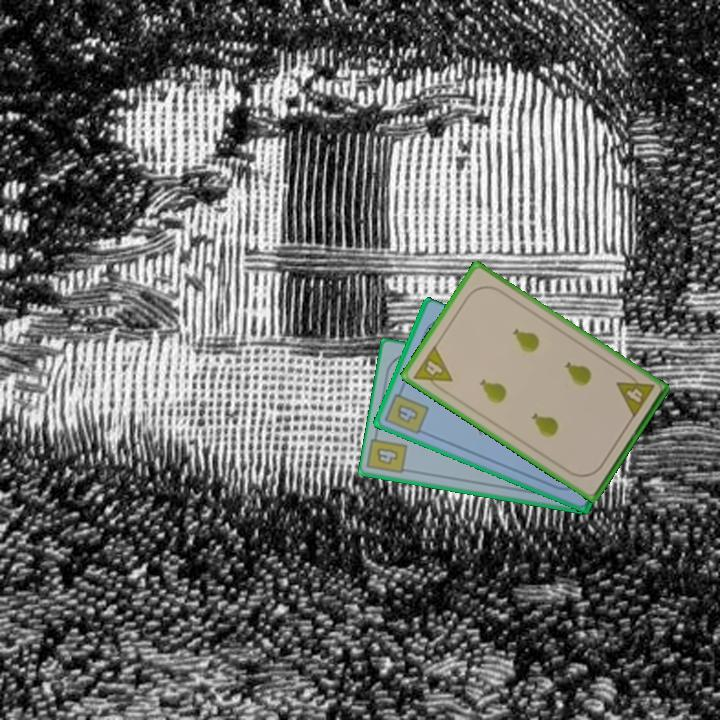4b: (381, 384, 431, 437), (373, 445, 401, 468)
4p: (410, 342, 455, 396), (613, 368, 657, 421)
